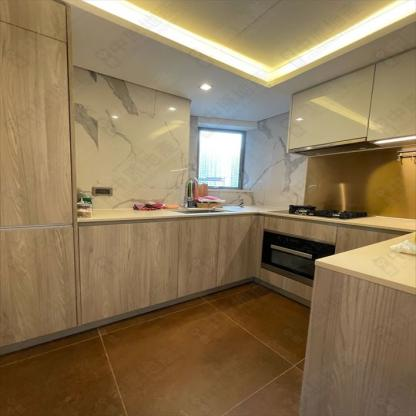Cupboard: (286, 48, 415, 149), (129, 215, 255, 311)
Exhaust Hood: (289, 137, 379, 156)
Faucet: (180, 177, 199, 206)
Oven: (260, 228, 336, 287)
Sink: (171, 208, 233, 213)
Stove: (267, 205, 370, 220)
